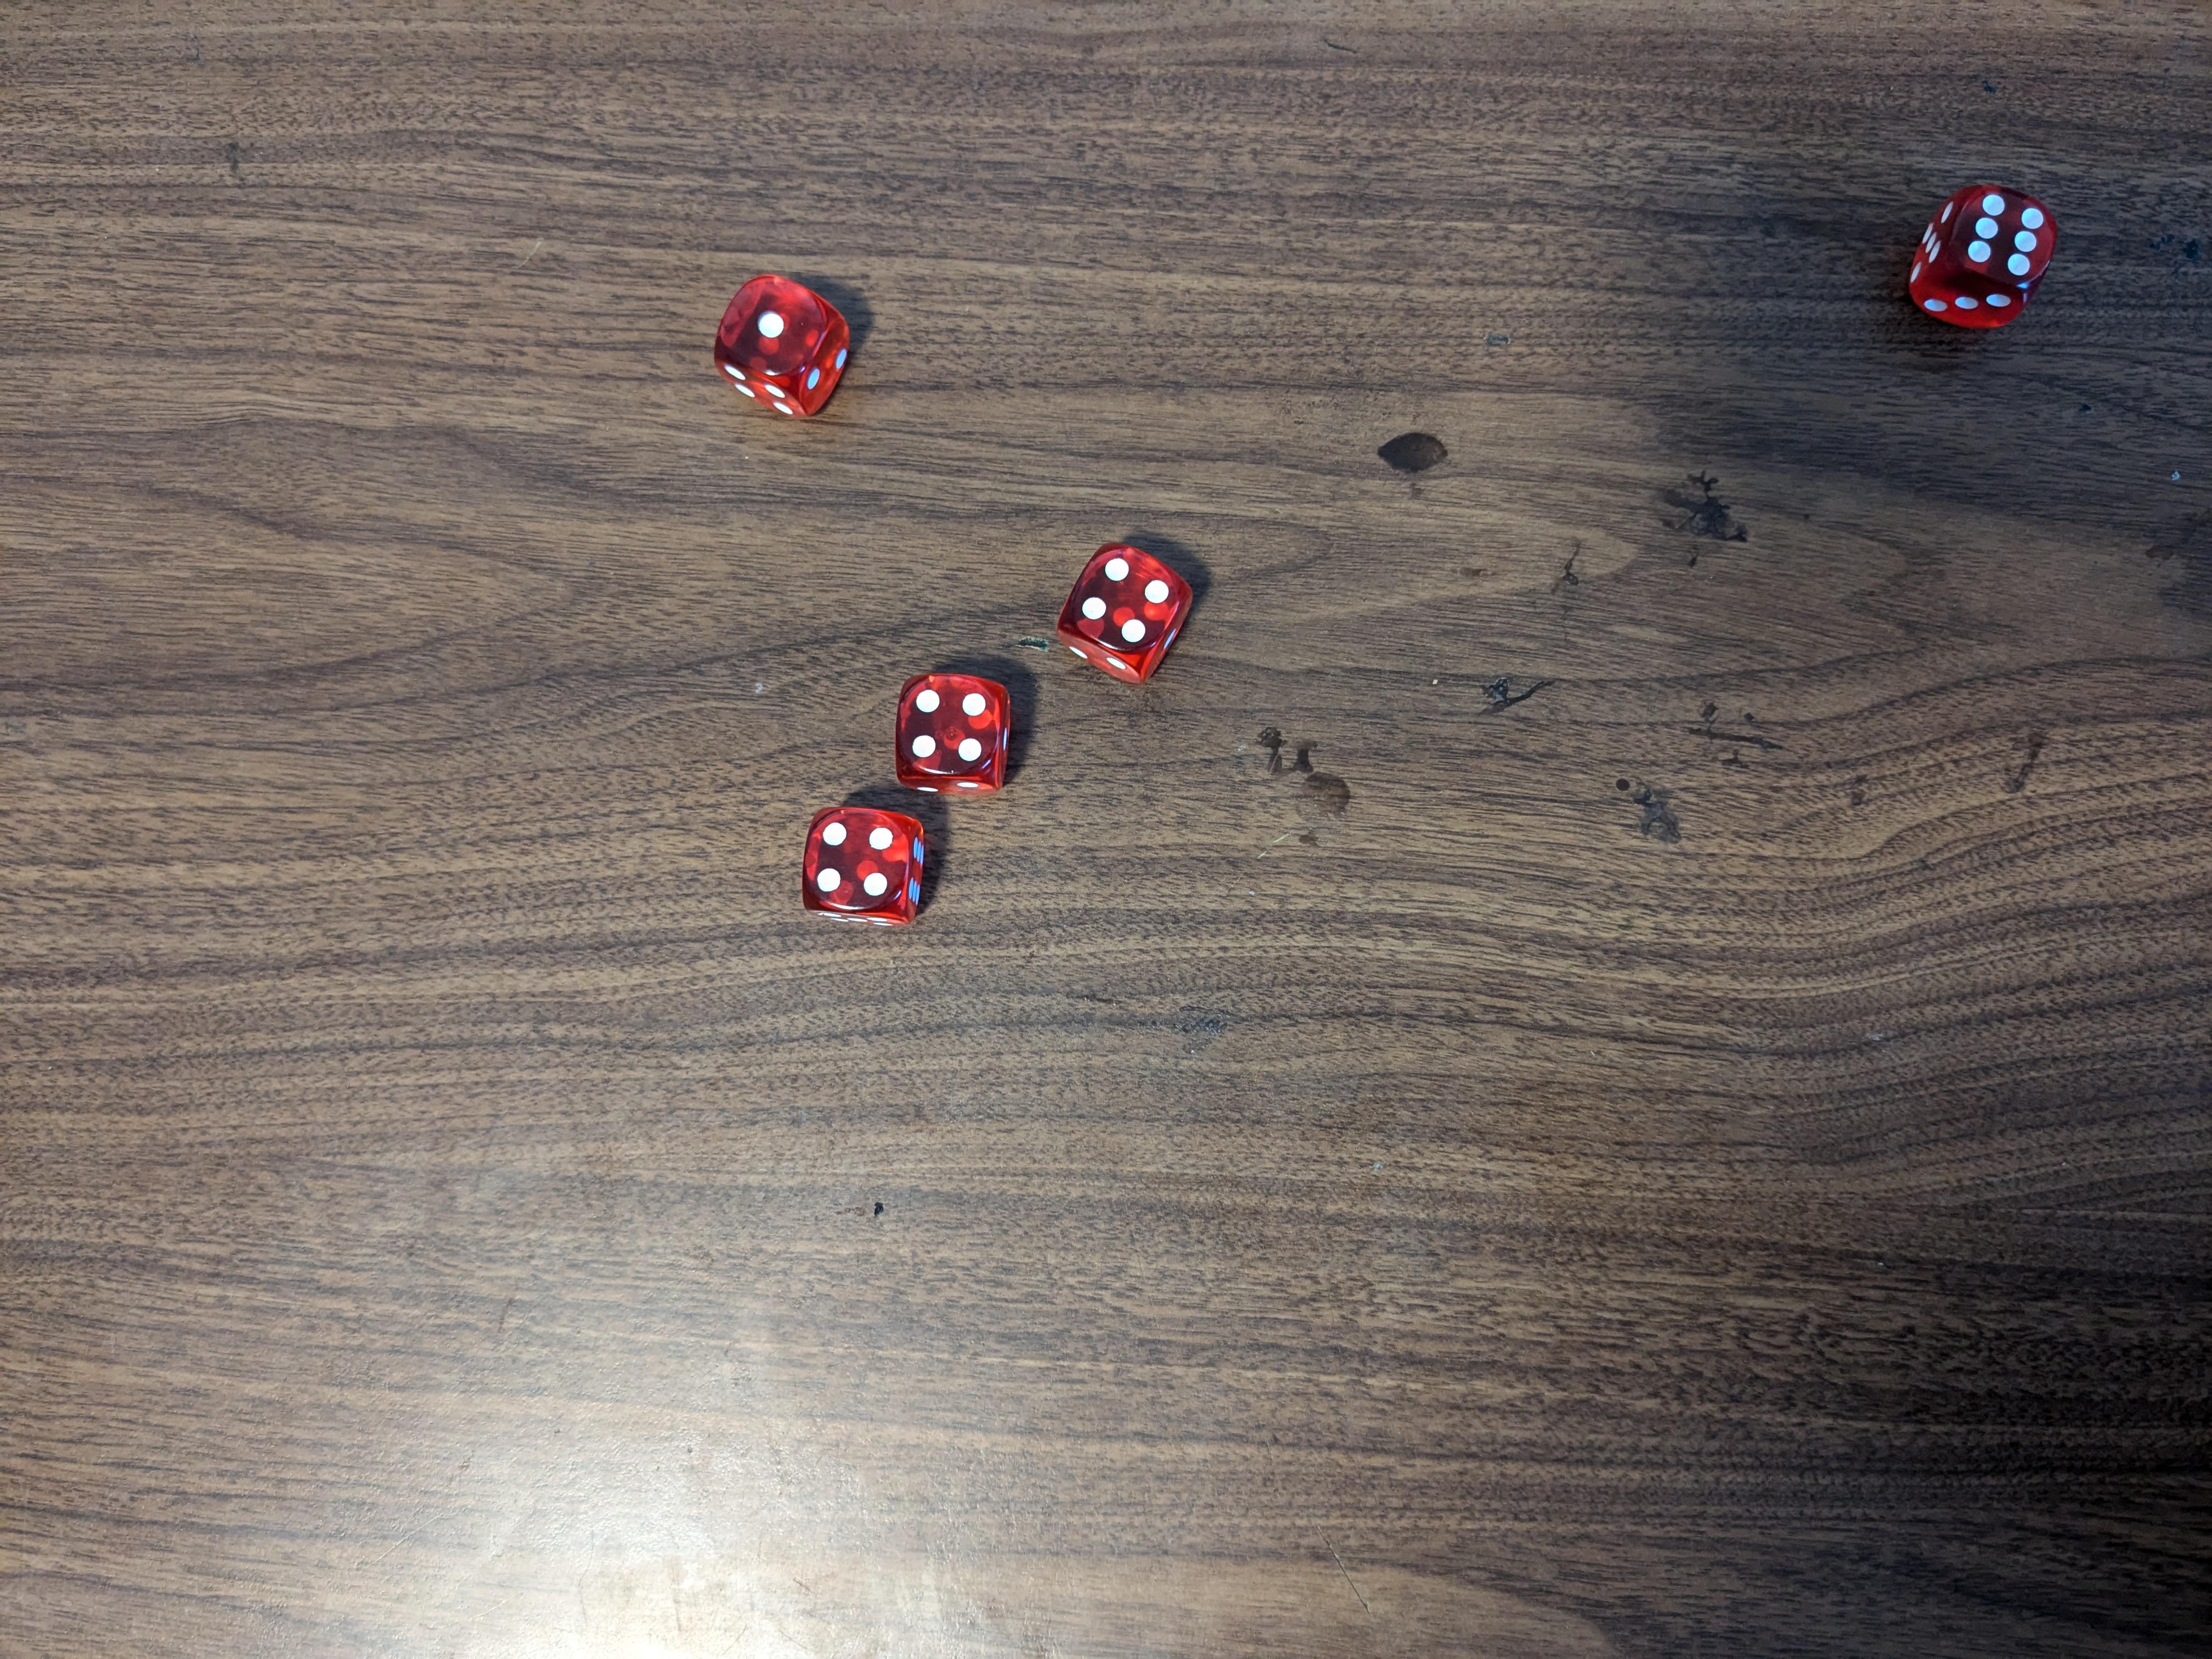four: (1057, 542, 1200, 690), (892, 669, 1024, 803), (796, 805, 932, 924)
one: (709, 272, 860, 420)
six: (1902, 178, 2059, 326)
